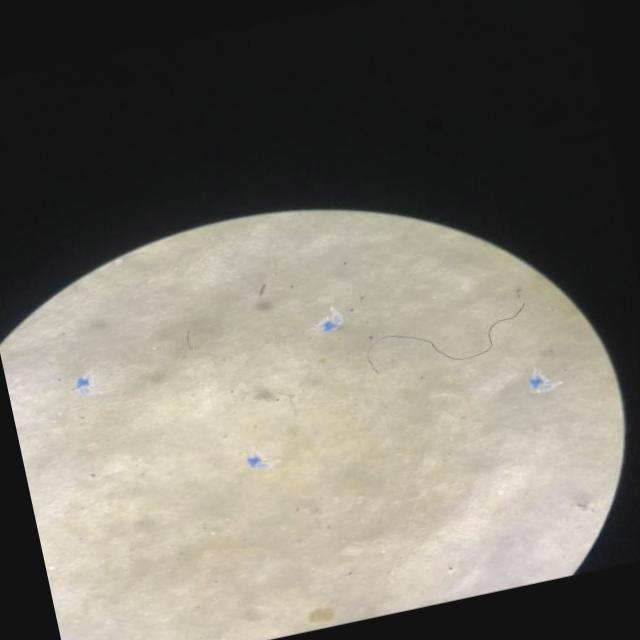fiber: (369, 303, 521, 372)
film: (314, 307, 342, 332), (529, 370, 559, 391), (76, 373, 95, 393), (248, 453, 271, 468)
fragment: (310, 607, 334, 623)
pellet: (497, 489, 502, 495)
